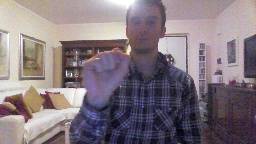Pugno: (80, 46, 132, 108)
